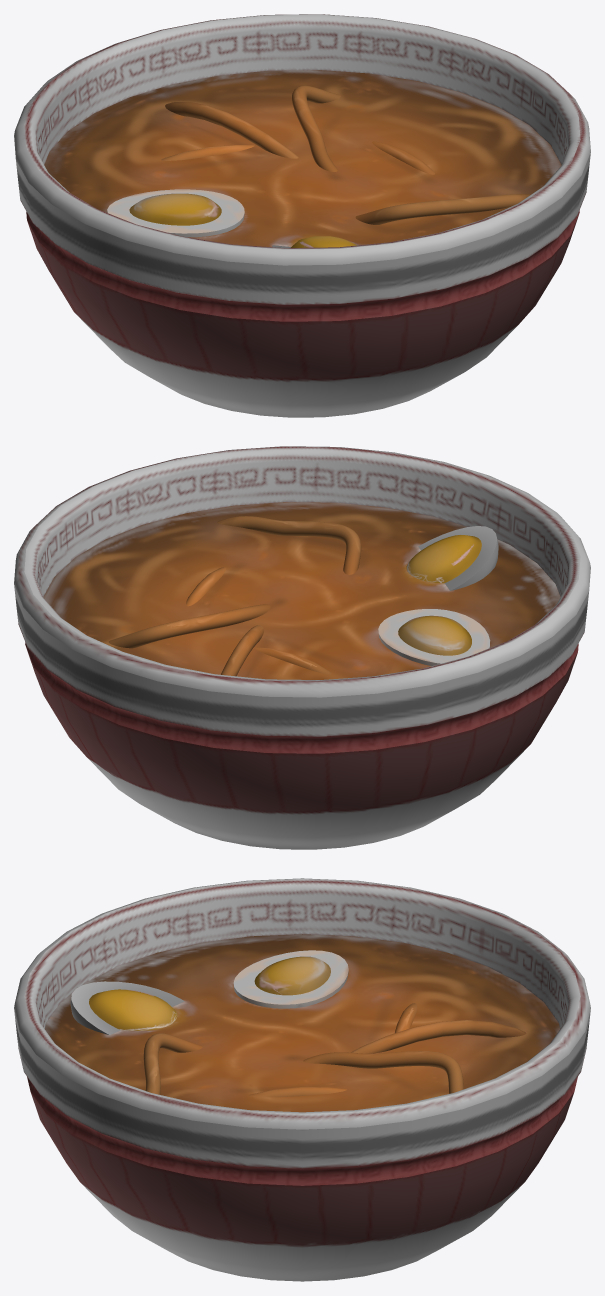
Rendered from RAMENs.fbx.
3 views of the same model, one above another, from view 1: azimuth 30°, elevation 25°; view 2: azimuth 150°, elevation 25°; view 3: azimuth 270°, elevation 25° (orthographic).
Parts seen in each view (by area): view 1: CUP; view 2: CUP; view 3: CUP.
Boxes of the visible parts, x1=… form: CUP: x1=14, y1=14, x2=590, y2=417; CUP: x1=14, y1=446, x2=590, y2=849; CUP: x1=14, y1=878, x2=590, y2=1281.
Bounding box in the file's own units: 809 × 354 × 809.
